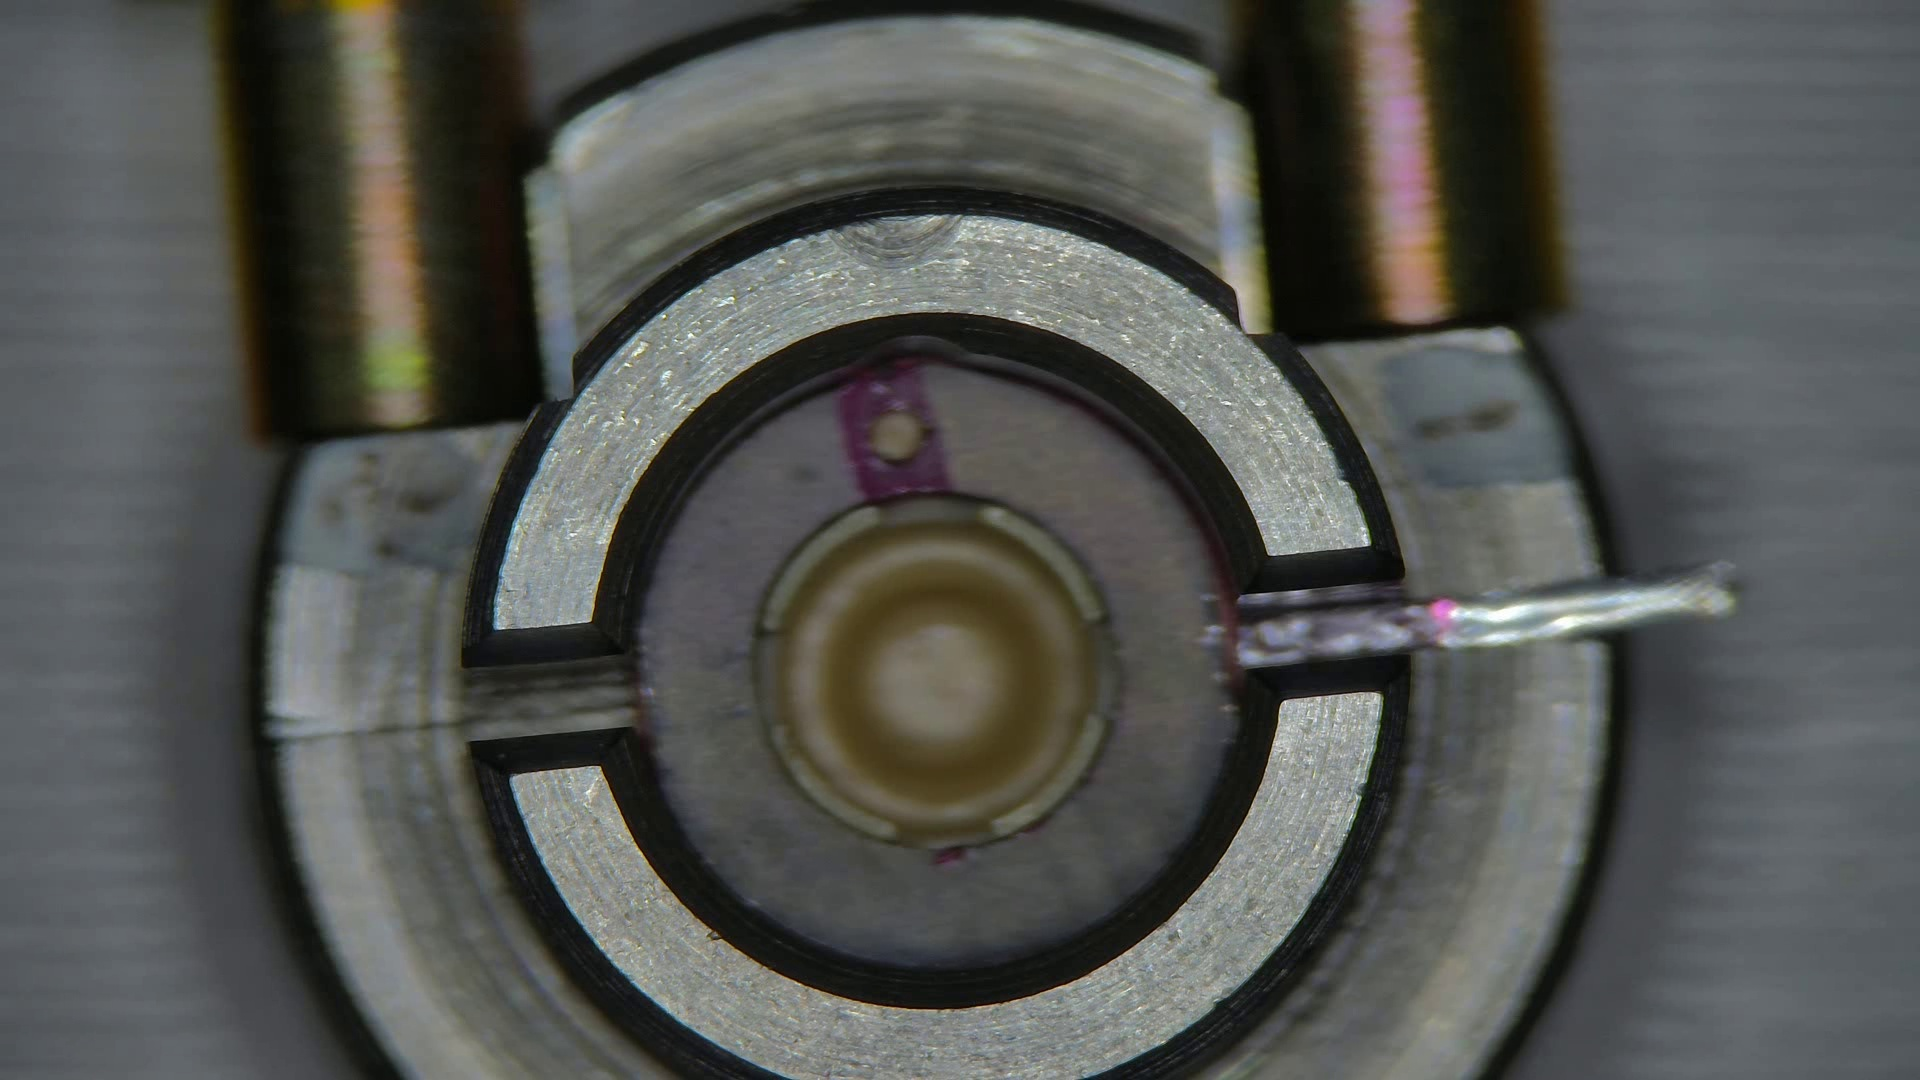YellowOring: (637, 361, 1233, 969)
